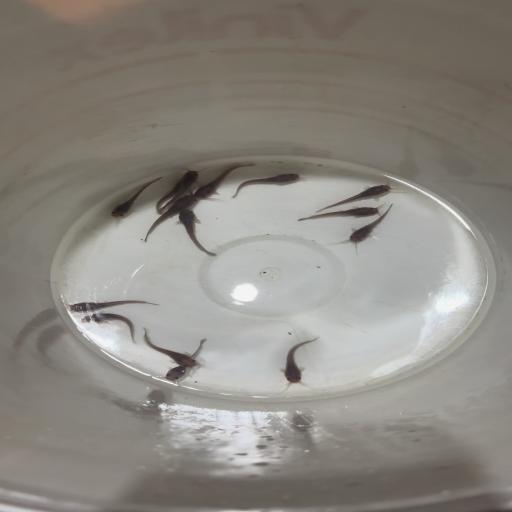lele: (312, 176, 401, 213), (270, 334, 324, 393), (141, 192, 199, 243), (337, 203, 397, 250), (138, 327, 204, 369), (194, 162, 257, 202), (158, 337, 208, 385), (108, 176, 164, 218), (294, 202, 384, 227), (174, 209, 218, 257), (229, 170, 303, 198), (158, 167, 202, 212), (78, 312, 138, 344), (63, 298, 163, 314), (154, 183, 180, 214)
